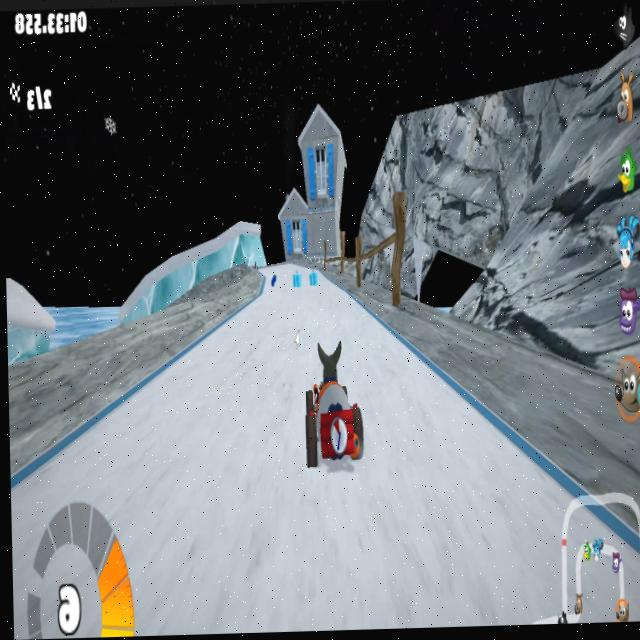bonus: (305, 269, 320, 290), (288, 271, 300, 292)
nitro: (271, 270, 277, 288)
player_kart: (295, 339, 366, 477)
track: (10, 456, 526, 640), (190, 340, 294, 476), (526, 553, 640, 619), (118, 386, 190, 459), (366, 420, 488, 457), (223, 306, 346, 342), (364, 383, 453, 421), (526, 511, 599, 555), (364, 358, 423, 386), (79, 424, 120, 461), (256, 289, 338, 305), (525, 482, 561, 507), (364, 332, 395, 357), (347, 309, 369, 337), (51, 446, 73, 467), (262, 261, 293, 270), (69, 453, 79, 464)
